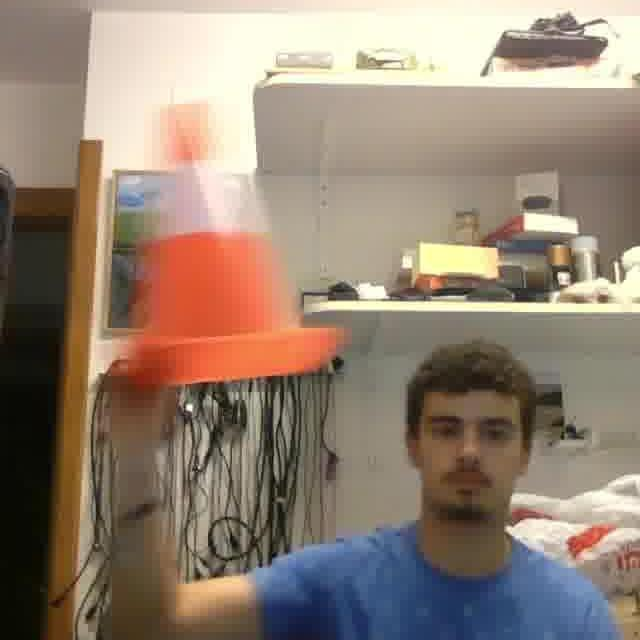NO-Hardhat: (411, 340, 531, 407)
NO-Mask: (435, 469, 510, 521)
NO-Safety Vest: (300, 525, 580, 640)
Person: (100, 340, 627, 640)
Safety Cone: (117, 93, 351, 395)
